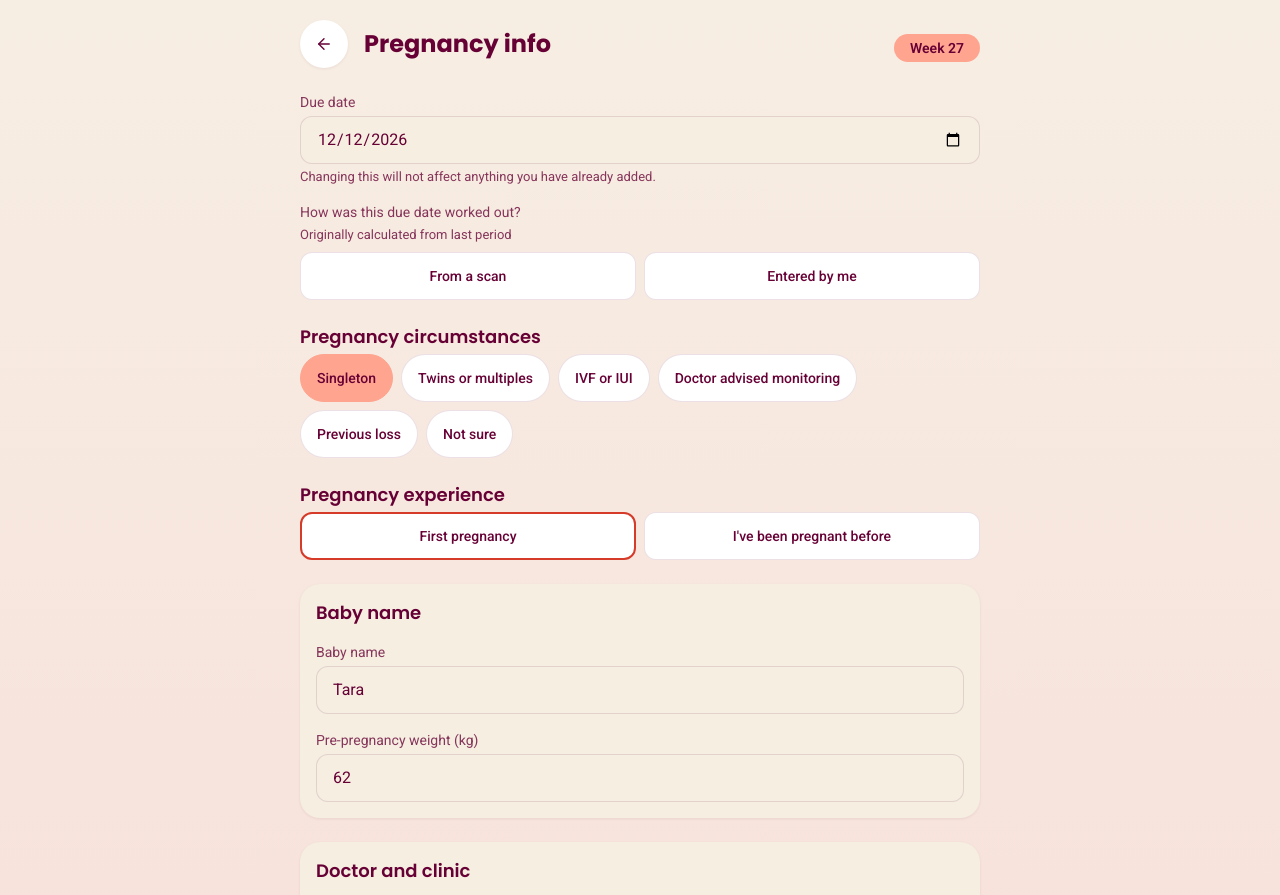
PregnancyInfoForm › reveals twin details and a second baby-name field when twins are selected
Click the button "Twins or multiples". click: [476, 378]
box: [401,354,550,402]
(page scrolled)
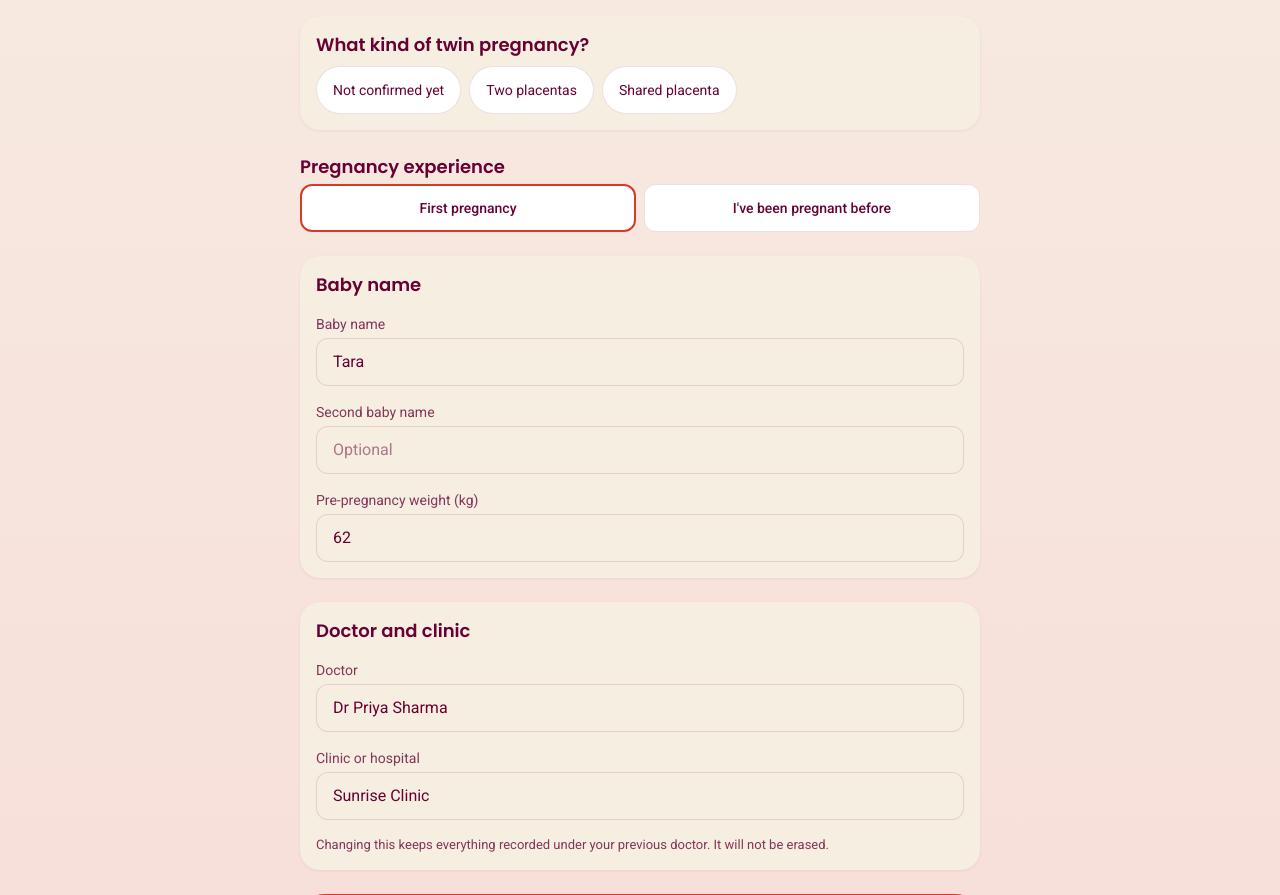
expect the heading "What kind of twin pregnancy?" is shown: met, box [316,32,589,57]
expect the field labelled "Second baby name" is shown: met, box [316,426,964,474]
